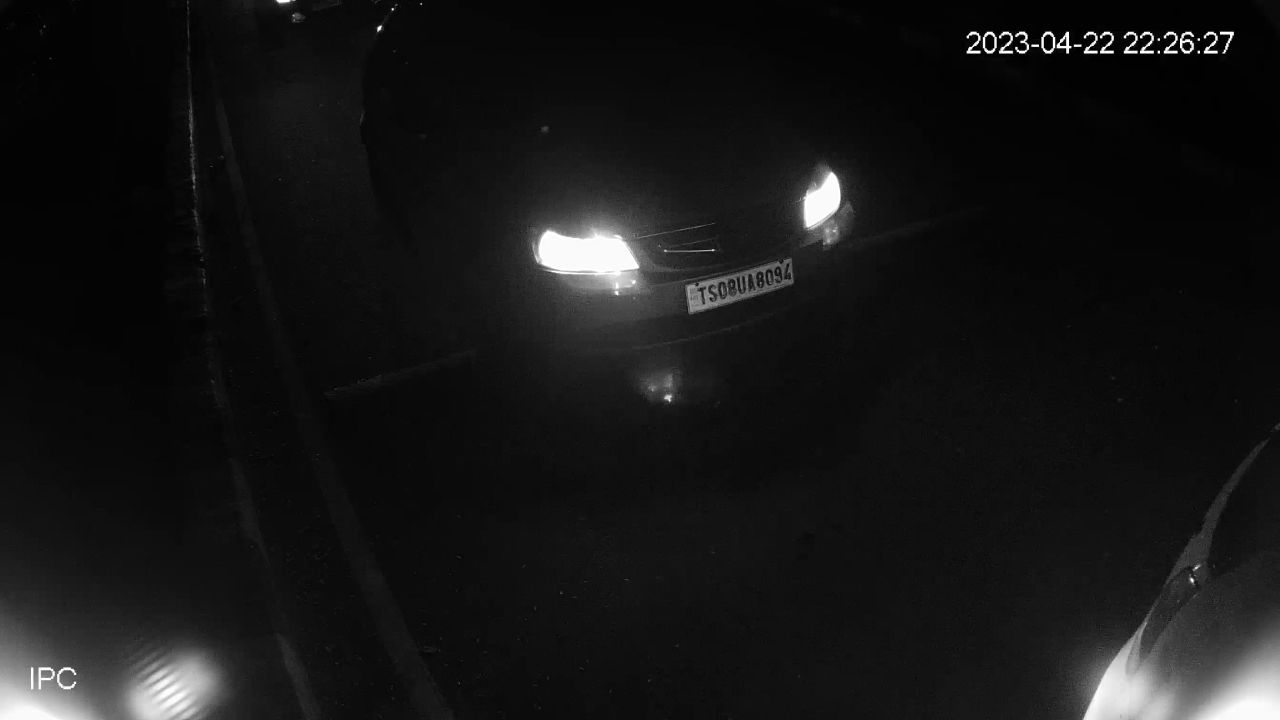license_plate: (683, 254, 798, 321)
